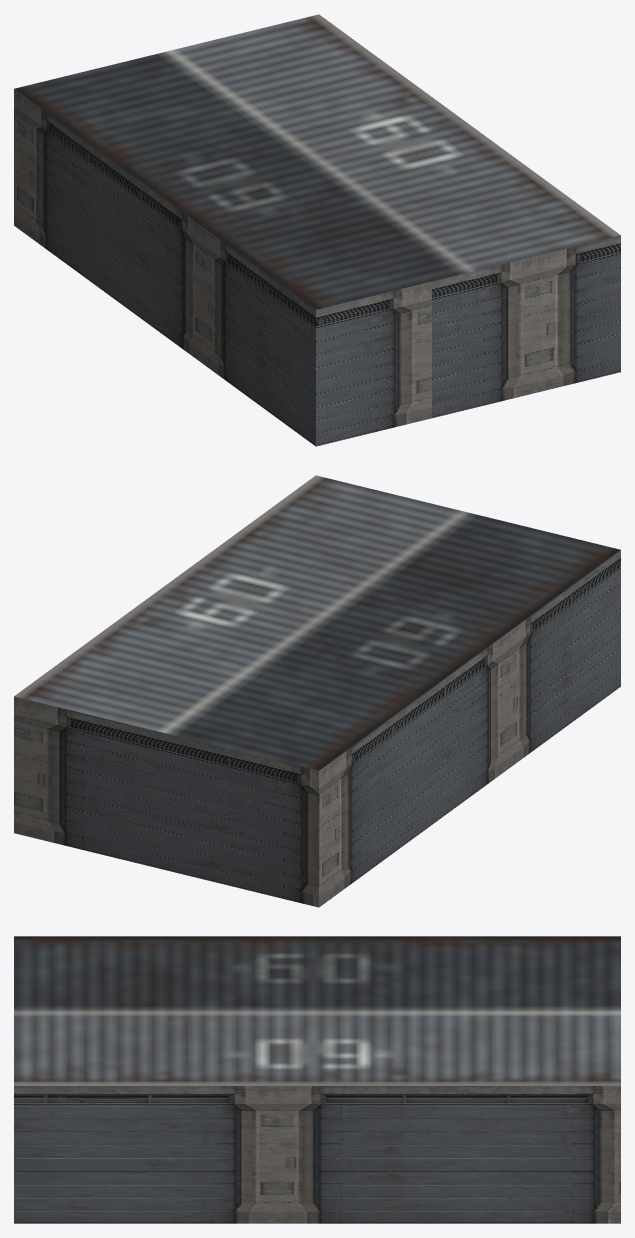
The model's file is hangar_light_09.glb.
3 renders of one model, top to bottom at view 1: azimuth 30°, elevation 25°; view 2: azimuth 150°, elevation 25°; view 3: azimuth 270°, elevation 25°, orthographic.
Parts seen in each view (by area): view 1: buildings/saxarba/hangar_light/hangar_light_09; view 2: buildings/saxarba/hangar_light/hangar_light_09; view 3: buildings/saxarba/hangar_light/hangar_light_09.
Part boxes in pixels (x1=…): buildings/saxarba/hangar_light/hangar_light_09: x1=14, y1=14, x2=620, y2=446; buildings/saxarba/hangar_light/hangar_light_09: x1=14, y1=475, x2=620, y2=907; buildings/saxarba/hangar_light/hangar_light_09: x1=14, y1=936, x2=620, y2=1223.
Size of the model in its own units: 42 by 18 by 72.
